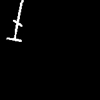double_crochet: (7, 0, 22, 41)
